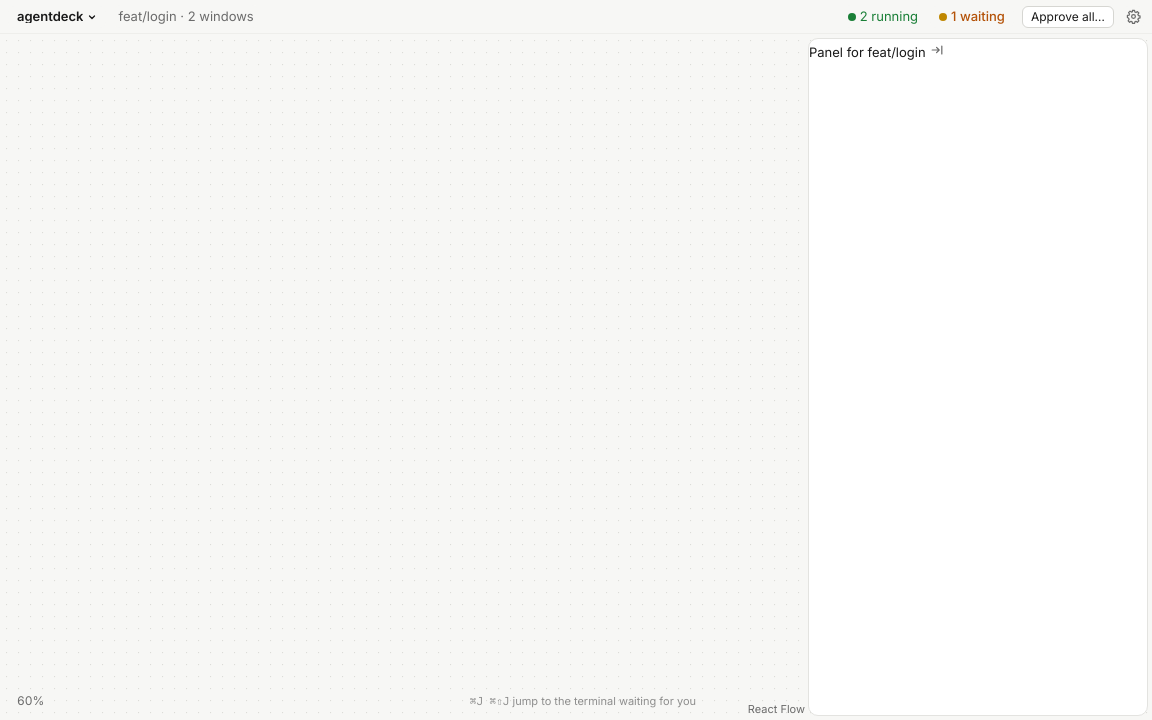
Test: Workbench › the panel collapses to a 28px rail and expands again; ⌘B toggles; the state is saved (MVP v2 · V4)
This screenshot has width=1152, height=720.
Expected: the element named "Side panel" is shown, [808,38,1148,716]
Expected: the text "Panel for feat/login" is shown, [809,44,926,60]
Click the button named "Collapse panel" at (937, 50), box [926,39,948,61]
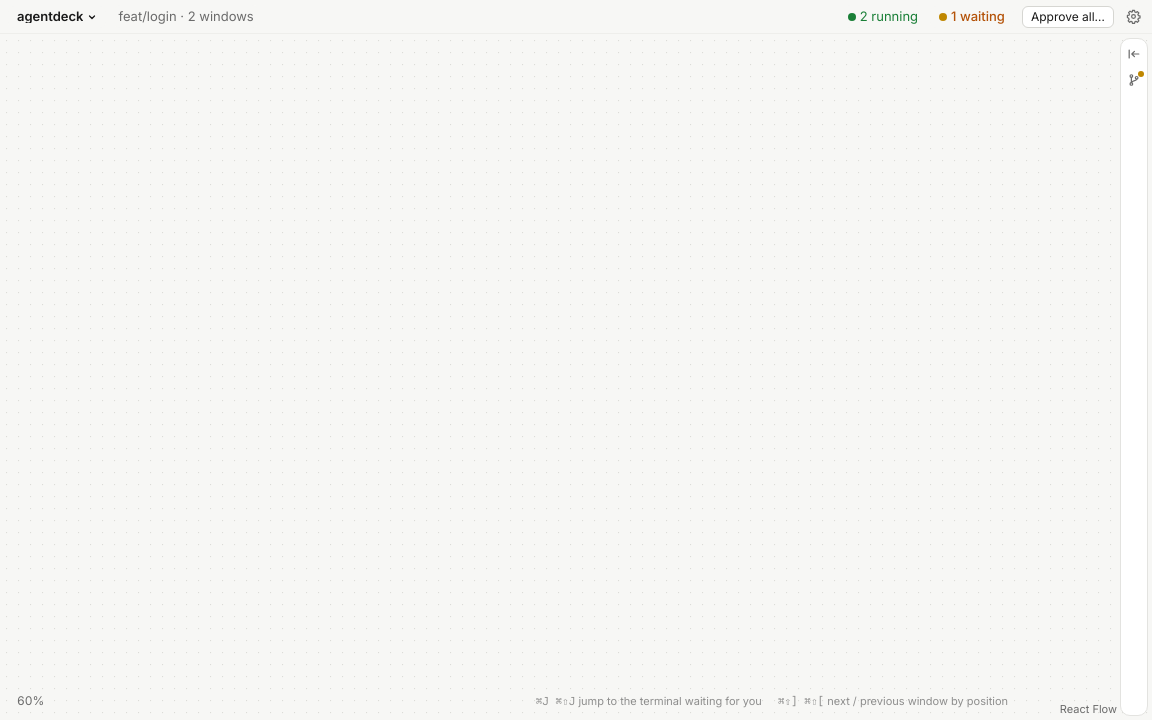
Expected: the text "Panel for" is gone
Expected: the picture named "Uncommitted changes" is shown, [1138,71,1144,77]
Click the button named "Expand panel" at (1134, 54), box [1123,43,1145,65]
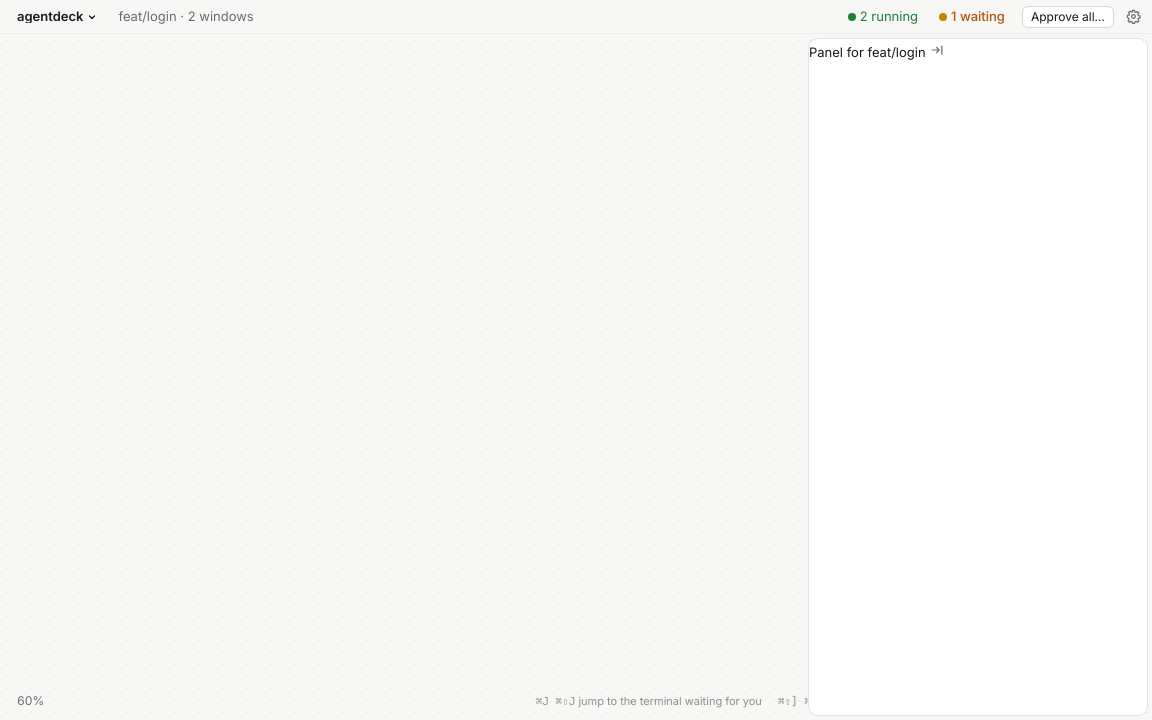
Expected: the text "Panel for feat/login" is shown, [809,44,926,60]
Press b
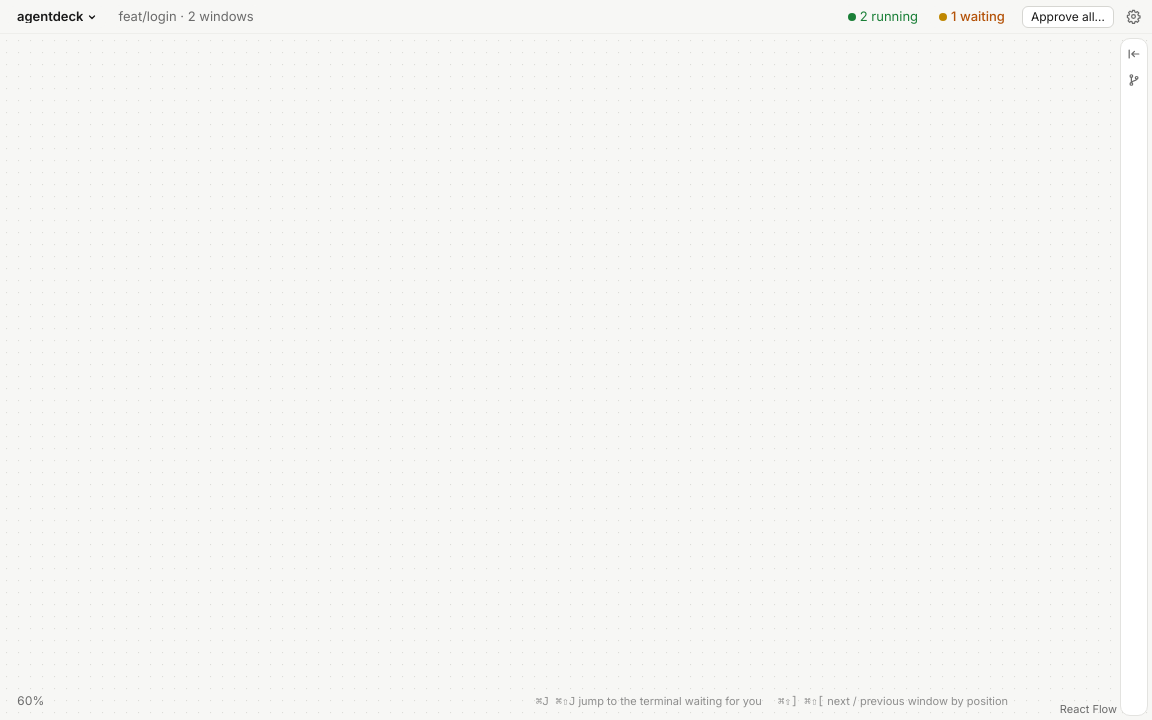
Expected: the button named "Expand panel" is shown, [1123,43,1145,65]
Press b
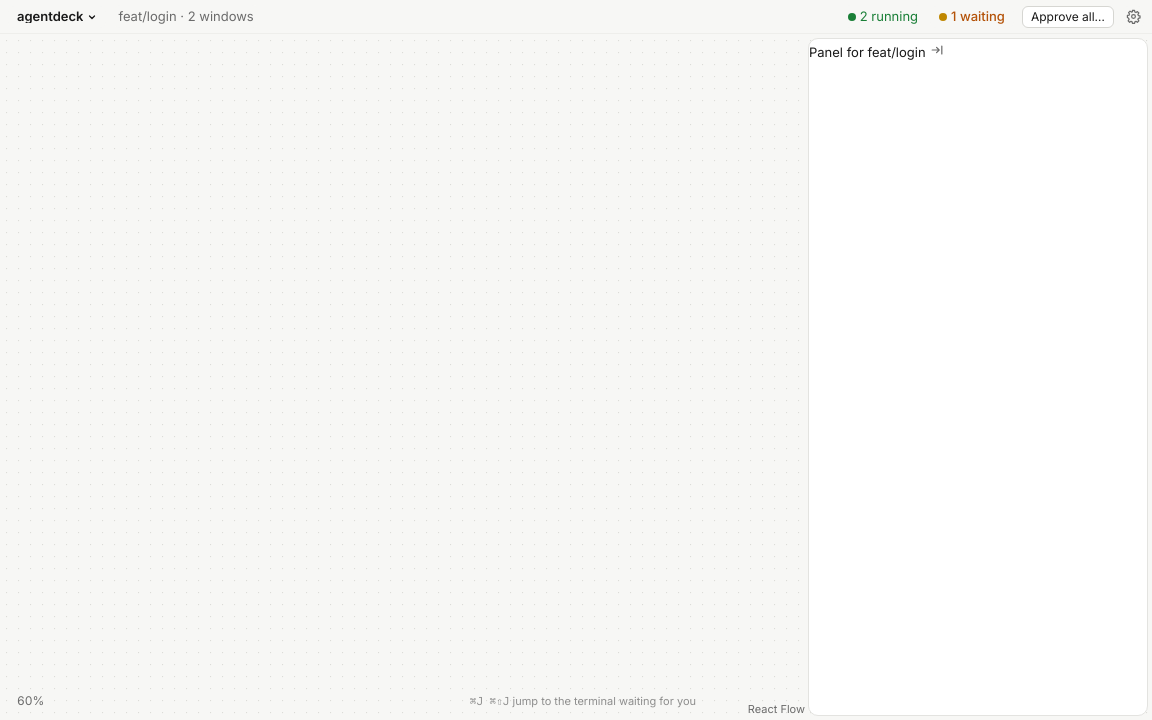
Expected: the button named "Collapse panel" is shown, [926,39,948,61]
